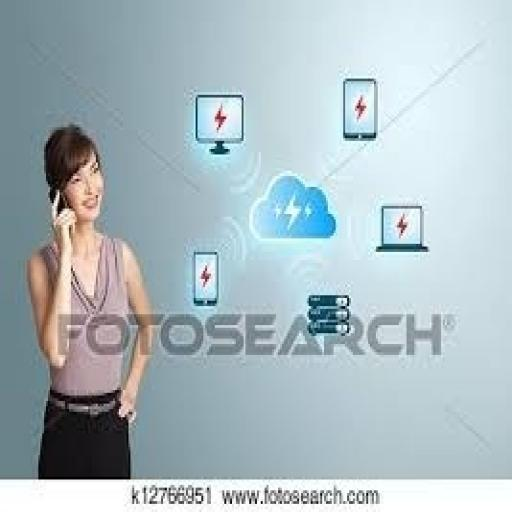calling: (23, 122, 155, 479)
